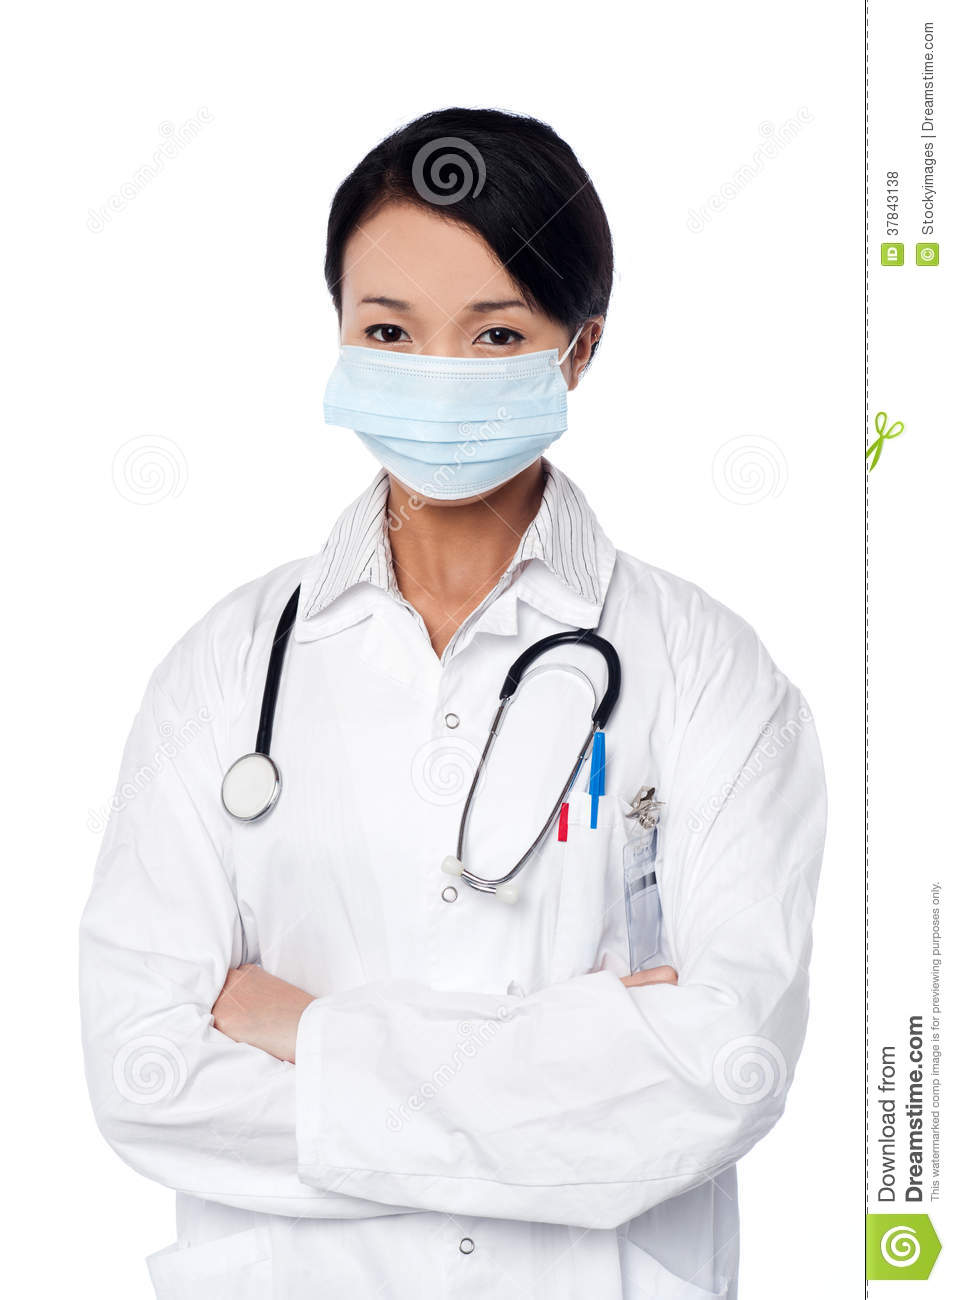mask: (325, 351, 591, 497)
